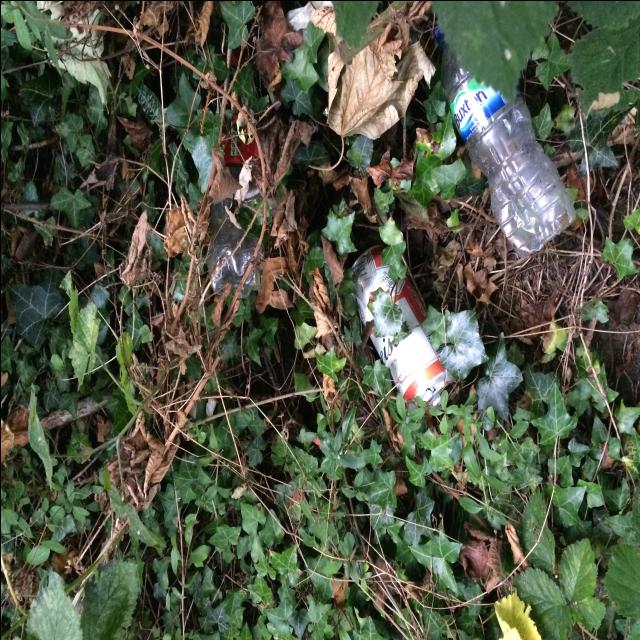Clear plastic bottle: (433, 23, 575, 257), (206, 112, 261, 298)
Drink can: (350, 243, 456, 405)
Plastic bottle cap: (433, 23, 442, 40)
